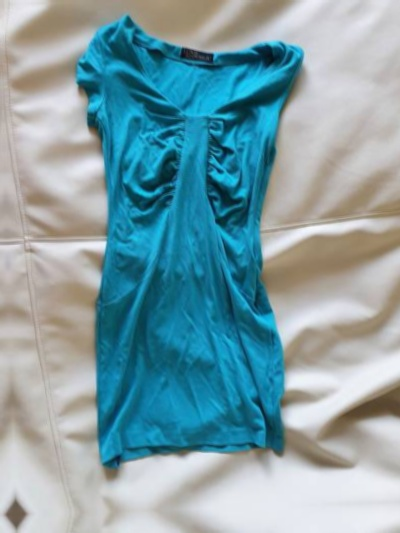Dress: (24, 6, 346, 482)
